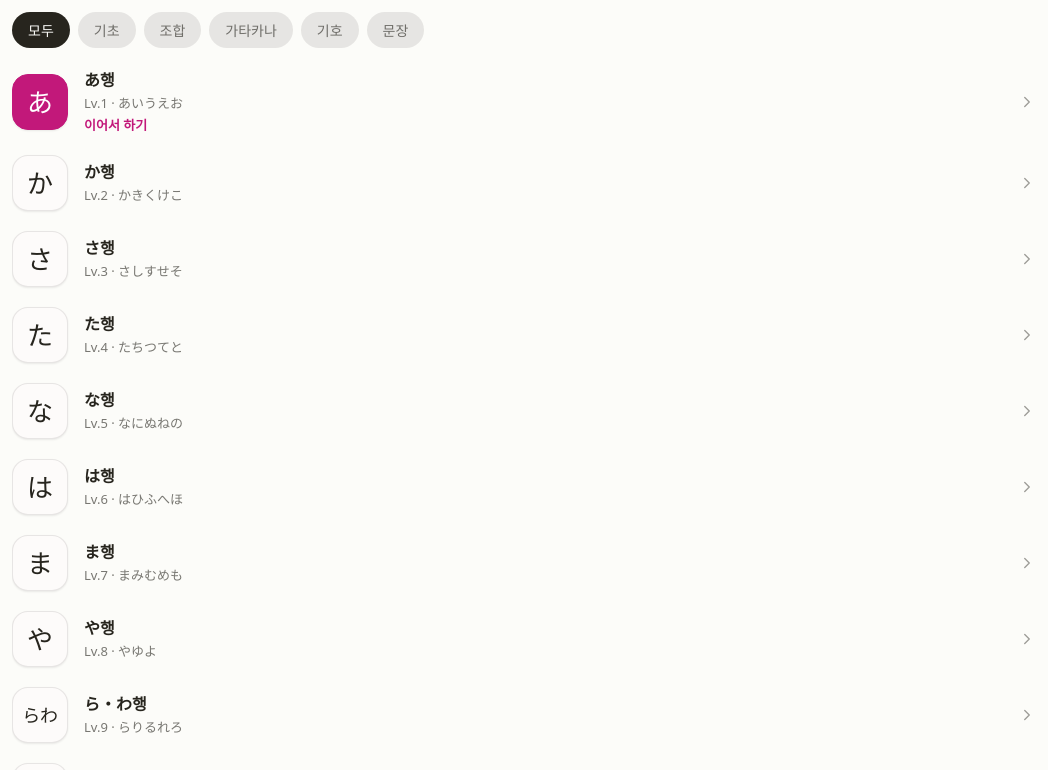
it: CourseTiles › 탭을 누르면 그 단계의 레벨만 보여 주고, 「모두」를 누르면 다시 전부 보여 준다
The width and height of the screenshot is (1048, 770).
Click the button "기초" at (107, 30), box [78,12,136,48]
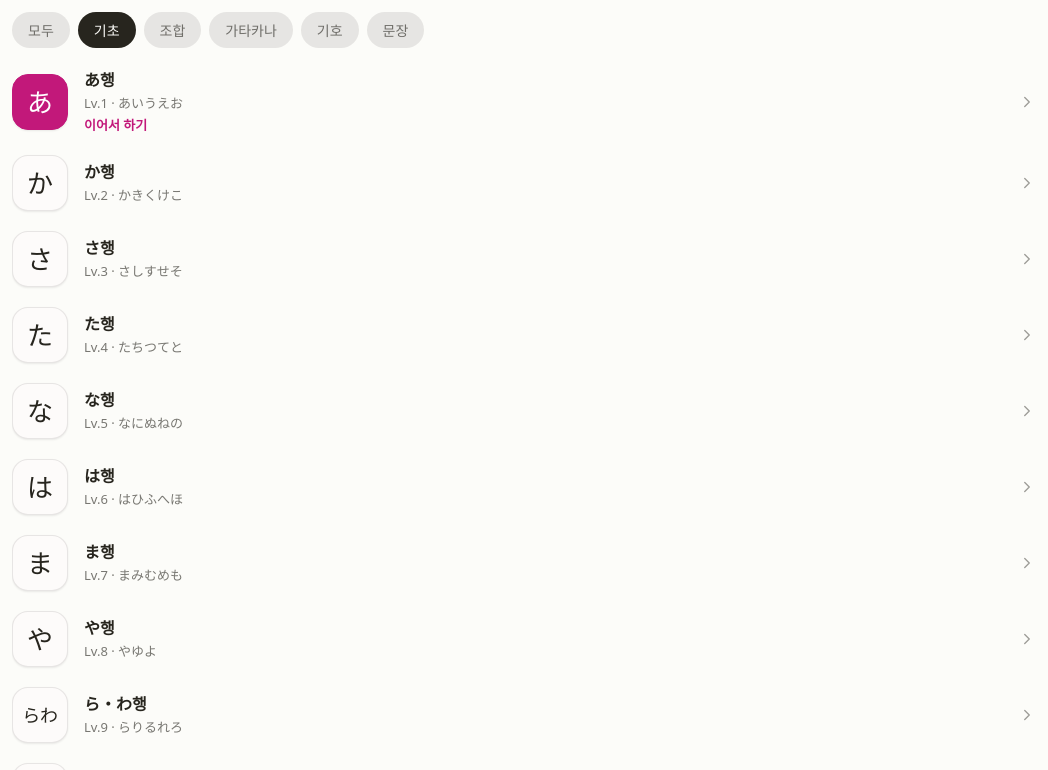
Click the button "조합" at (172, 30), box [144,12,201,48]
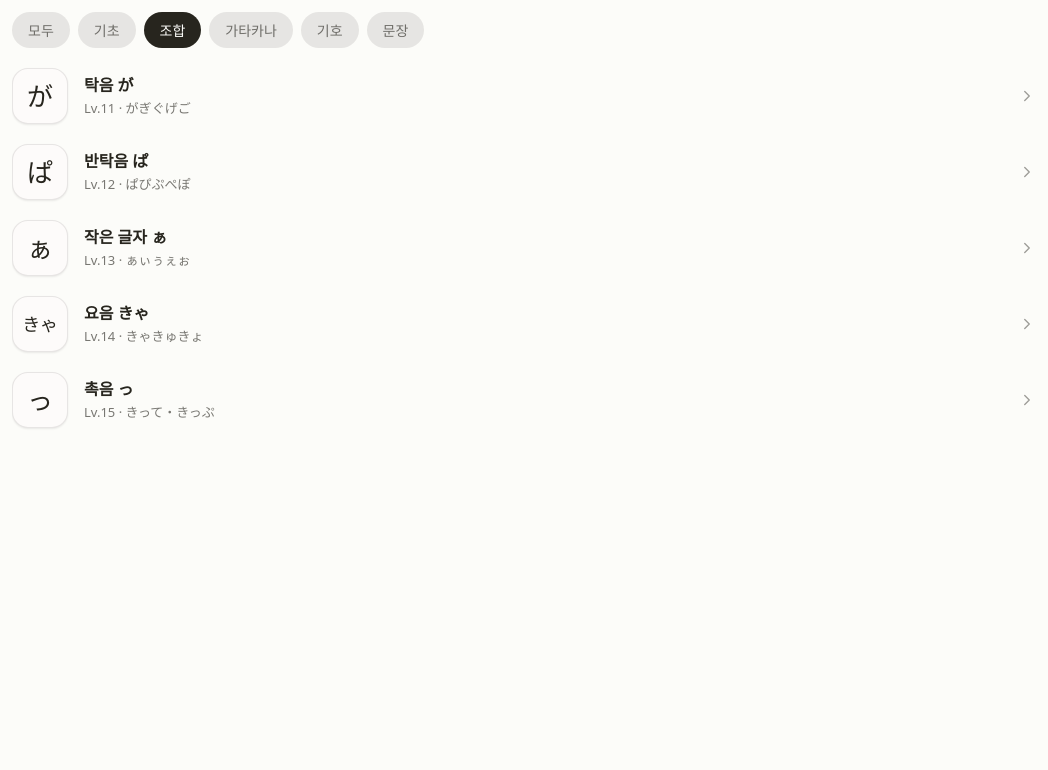
Result: the number of list items is 5 at [12,60,1036,132]; [12,136,1036,208]; [12,212,1036,284]; [12,288,1036,360]; [12,364,1036,436]
Click the button "가타카나" at (251, 30), box [209,12,293,48]
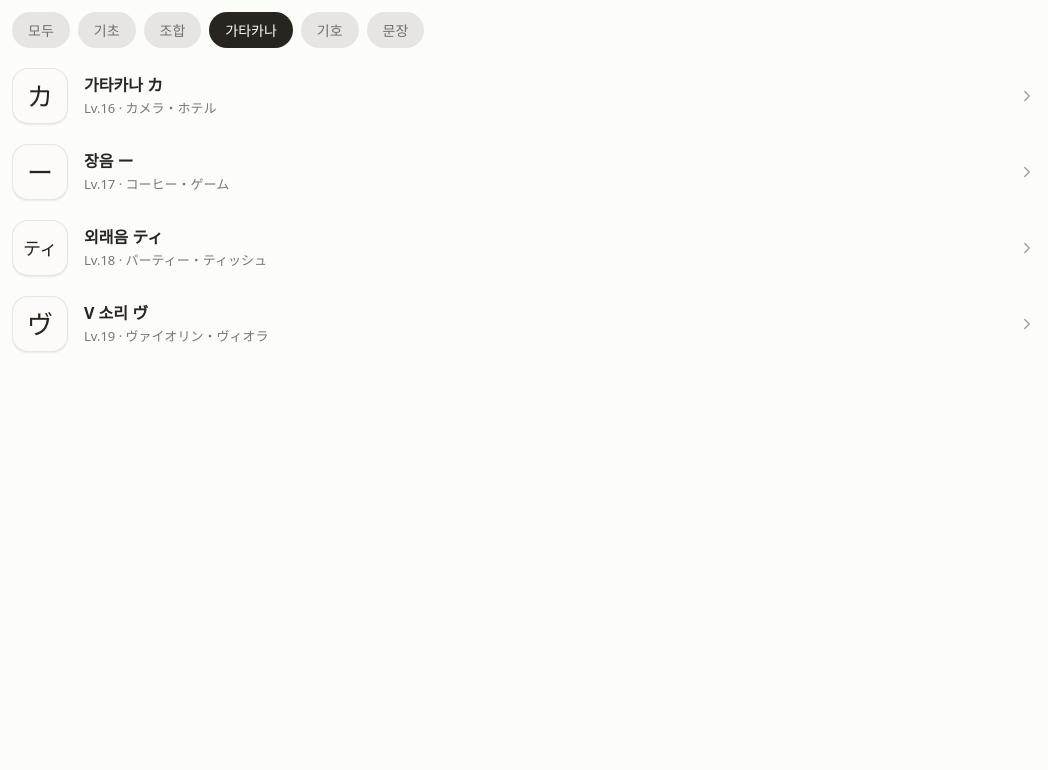
Result: the number of list items is 4 at [12,60,1036,132]; [12,136,1036,208]; [12,212,1036,284]; [12,288,1036,360]
Click the button "기호" at (330, 30), box [301,12,359,48]
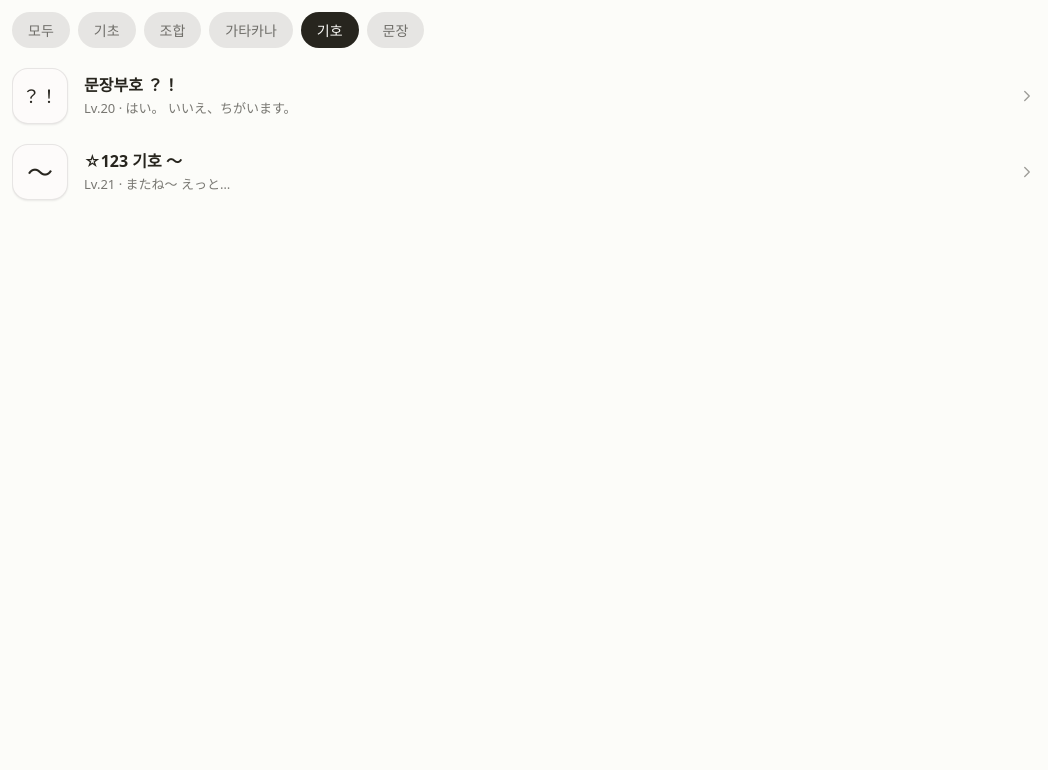
Result: the number of list items is 2 at [12,60,1036,132]; [12,136,1036,208]
Click the button "문장" at (396, 30), box [367,12,424,48]
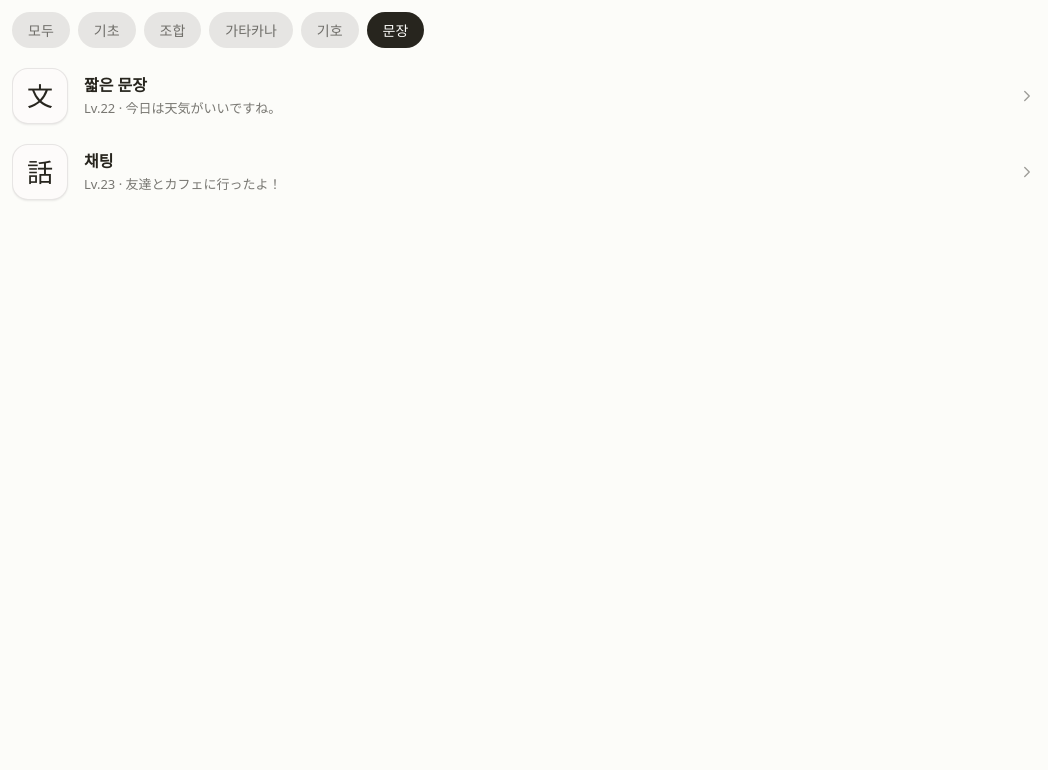
Result: the number of list items is 2 at [12,60,1036,132]; [12,136,1036,208]
Click the button "모두" at (41, 30), box [12,12,70,48]
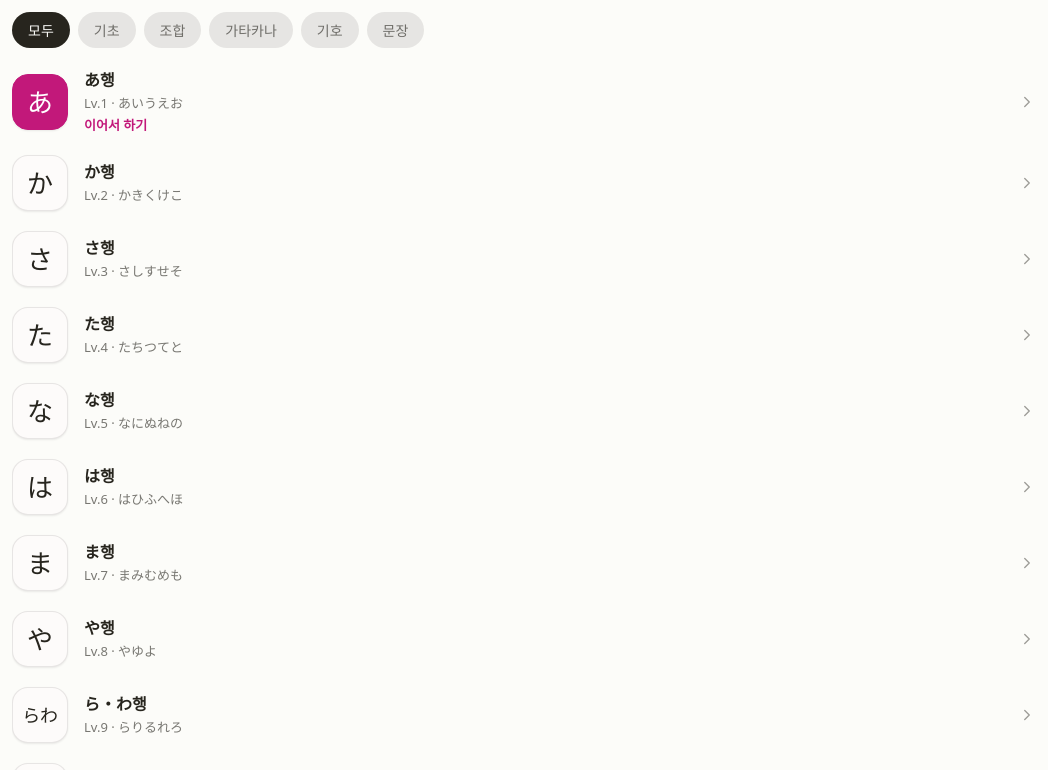
Result: the number of list items is 23
